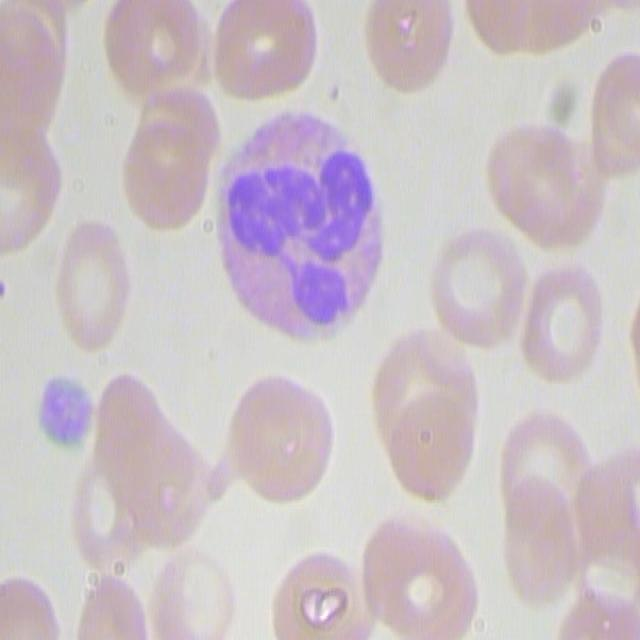RBC: (498, 393, 594, 607), (103, 361, 208, 547), (378, 326, 485, 499), (220, 366, 336, 506), (487, 120, 604, 258), (357, 507, 476, 640), (120, 84, 219, 233), (429, 224, 531, 356), (203, 0, 325, 106), (515, 254, 609, 388), (100, 0, 210, 105), (53, 218, 134, 349), (146, 540, 242, 638), (268, 541, 364, 638), (70, 458, 148, 572), (463, 0, 604, 59), (360, 0, 451, 88), (0, 130, 60, 262), (587, 49, 640, 183), (0, 571, 67, 640)
WBC: (214, 91, 386, 349)
platelets: (35, 360, 97, 460)
